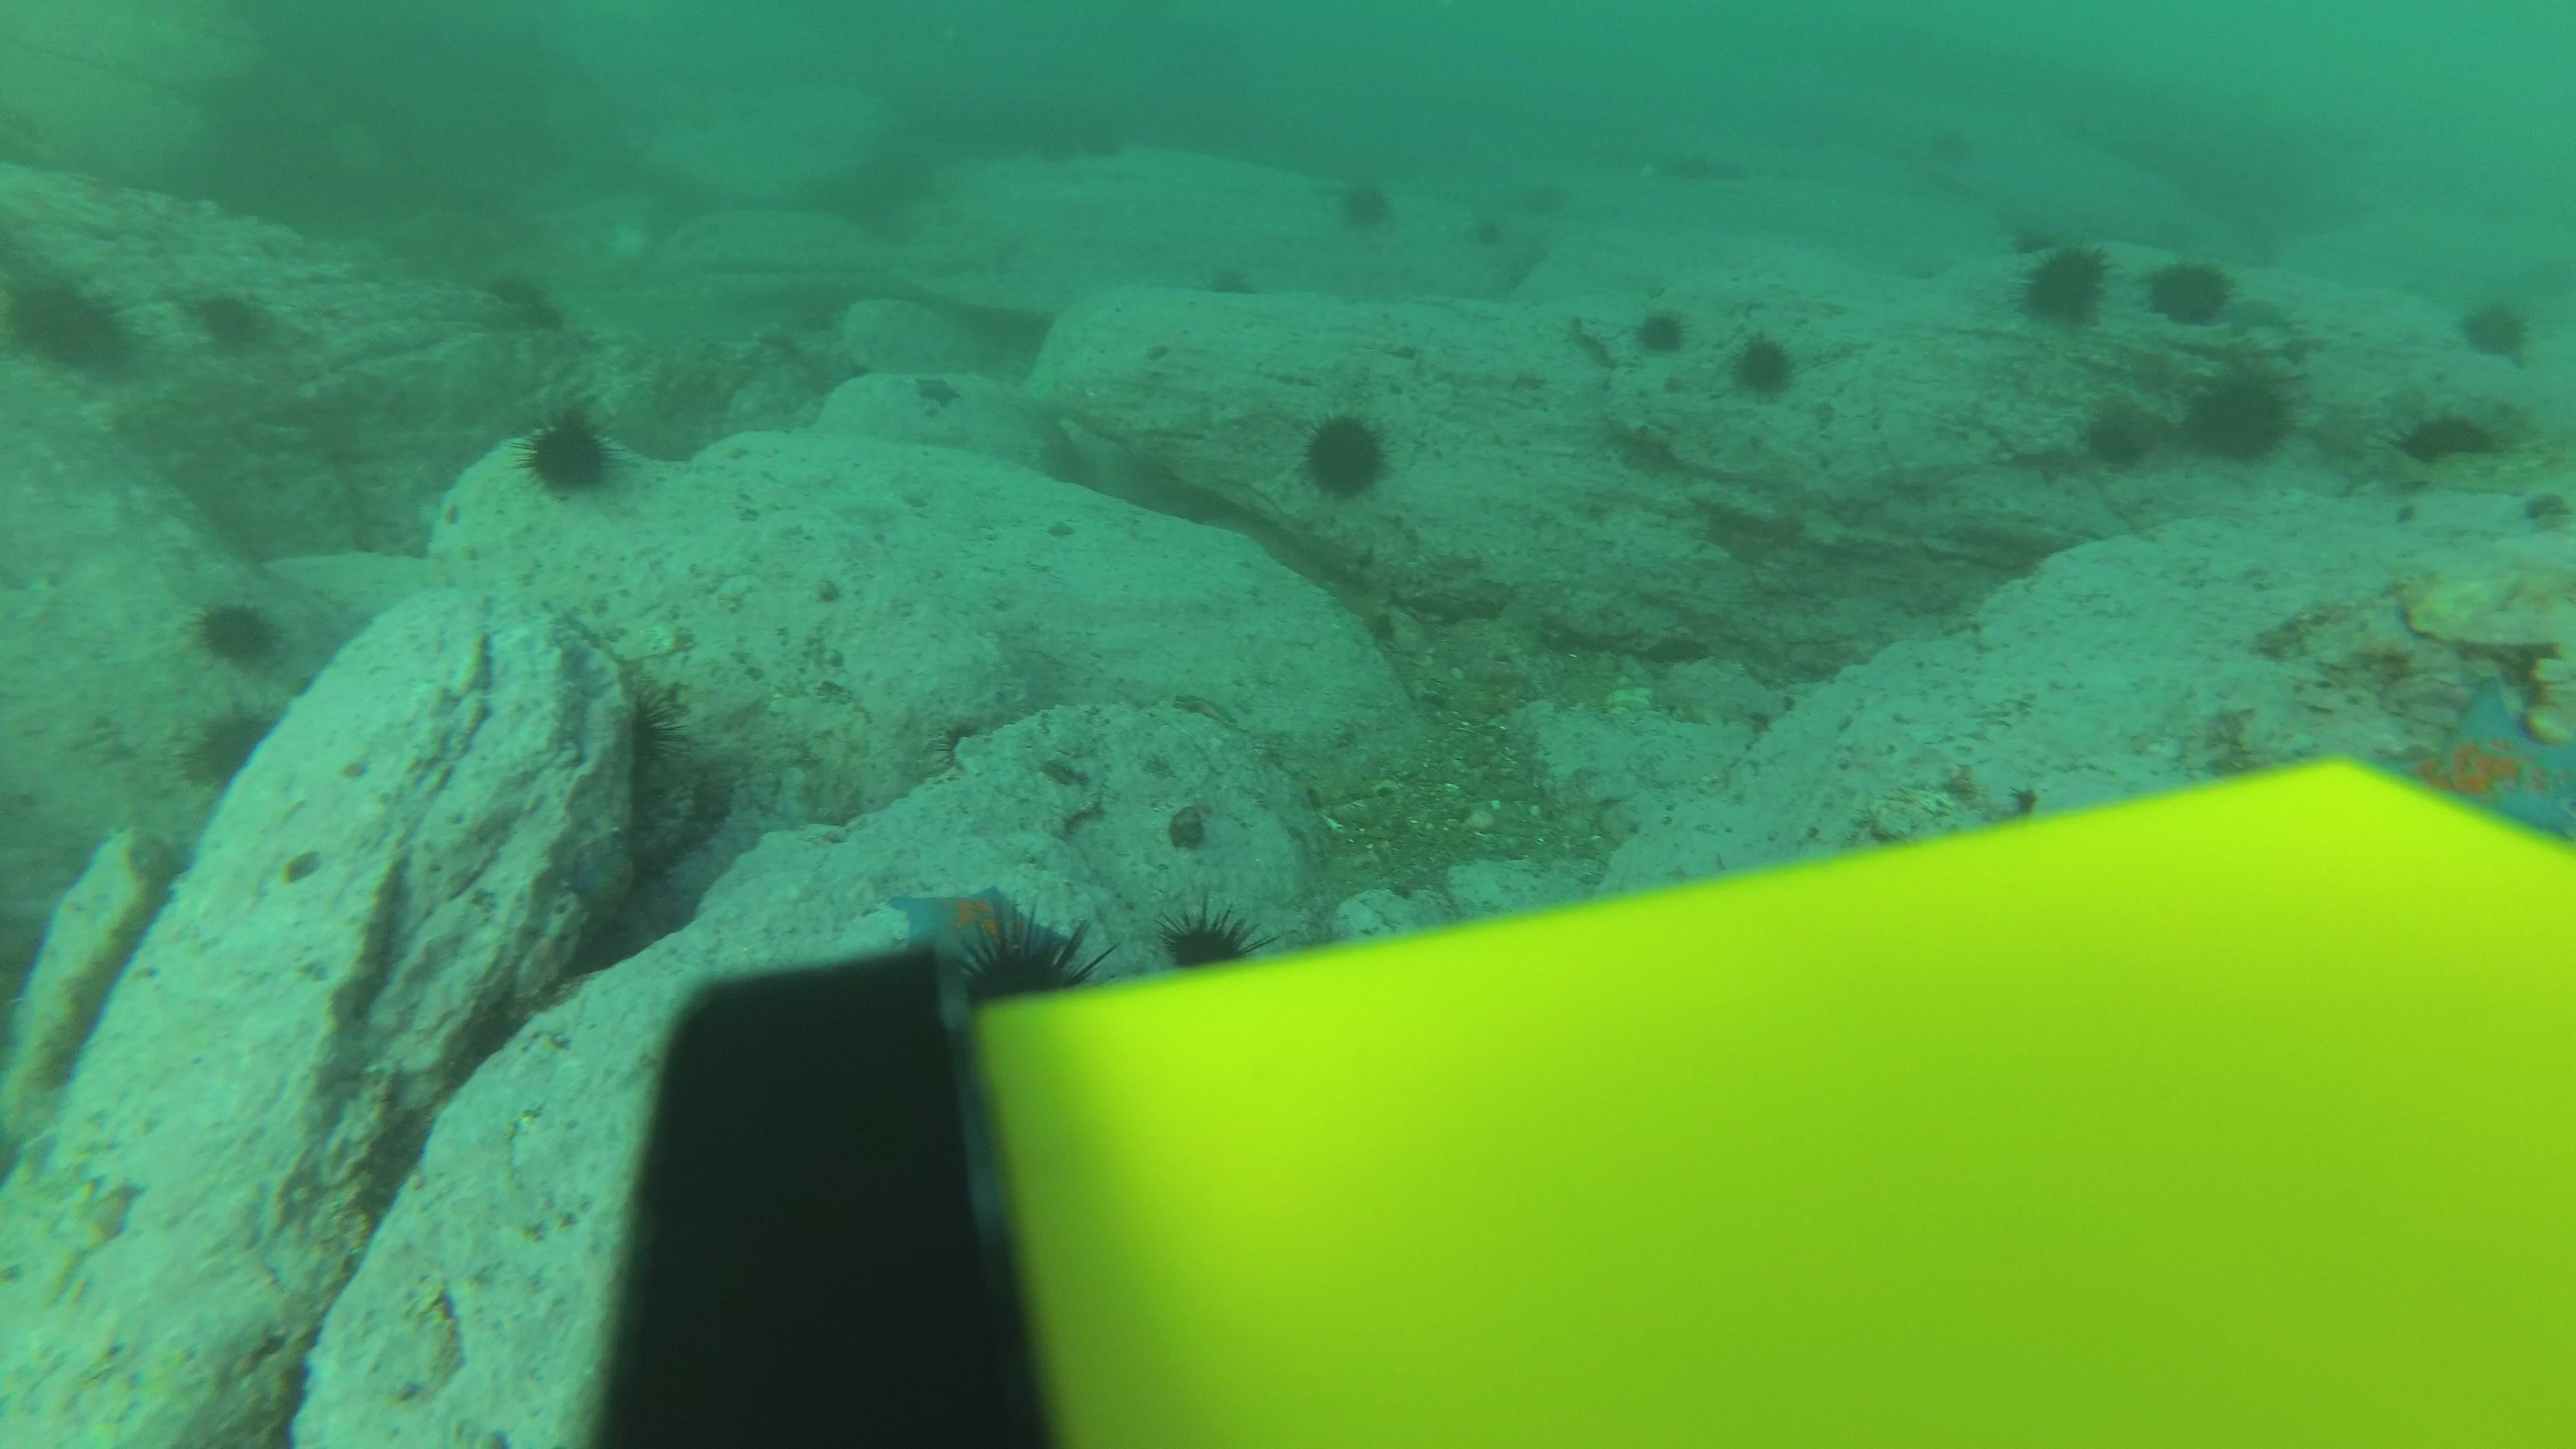echinus: (7, 265, 134, 379), (2185, 366, 2295, 465), (517, 403, 621, 501), (180, 699, 283, 796), (1297, 407, 1394, 502), (2015, 239, 2109, 327), (191, 591, 288, 672), (1157, 902, 1258, 975), (2144, 253, 2236, 329), (2399, 402, 2500, 467), (189, 281, 276, 356), (483, 264, 566, 334), (2457, 290, 2535, 361), (1729, 327, 1801, 400), (2079, 402, 2153, 471), (1332, 172, 1396, 234), (1921, 117, 1994, 168), (1516, 173, 1589, 225), (1463, 202, 1536, 253), (1187, 253, 1260, 304), (1074, 117, 1146, 168), (1026, 117, 1099, 168), (1633, 303, 1690, 357)
starfish: (2387, 672, 2576, 853), (883, 878, 1093, 987), (557, 826, 639, 924), (2215, 288, 2298, 338), (1566, 311, 1619, 372), (911, 370, 962, 414)
